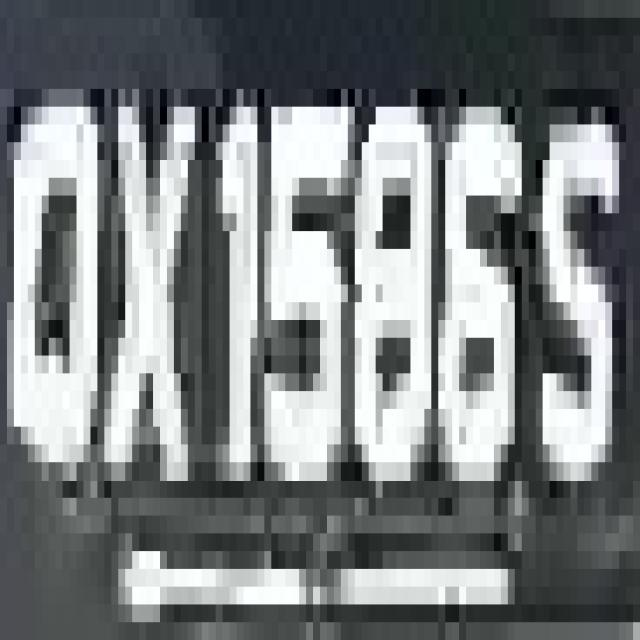1: (209, 54, 257, 534)
5: (257, 71, 348, 498)
6: (424, 71, 536, 498)
8: (341, 53, 431, 498)
Q: (0, 71, 111, 515)
S: (521, 71, 640, 569)
X: (104, 71, 202, 516)
